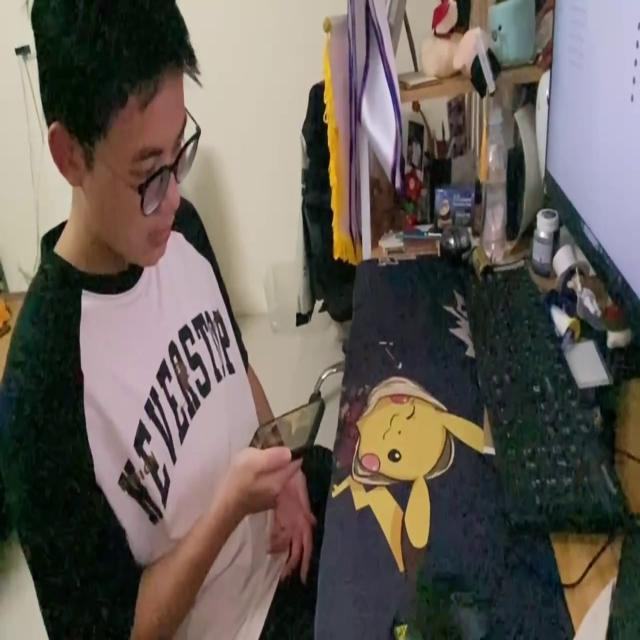laptop: (539, 0, 640, 339)
phone: (243, 396, 329, 458)
student: (2, 0, 323, 640)
